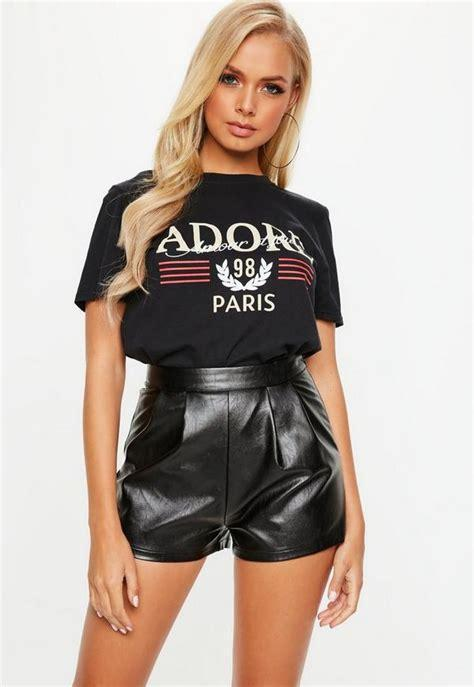Tshirt: (75, 164, 343, 364)
short: (114, 363, 348, 562)
